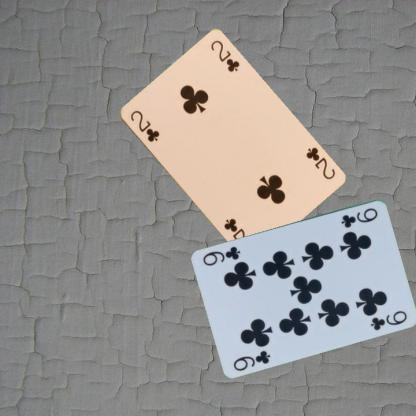2c: (127, 107, 161, 144), (303, 144, 336, 181)
9c: (231, 347, 272, 372), (339, 204, 379, 229)
